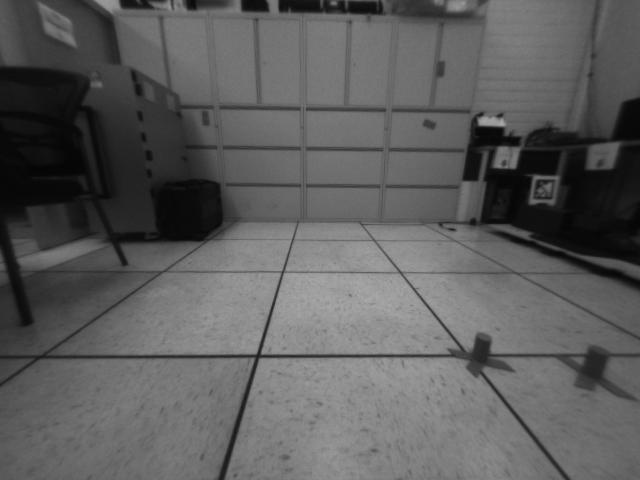X: (551, 345, 640, 402), (446, 330, 517, 378)
